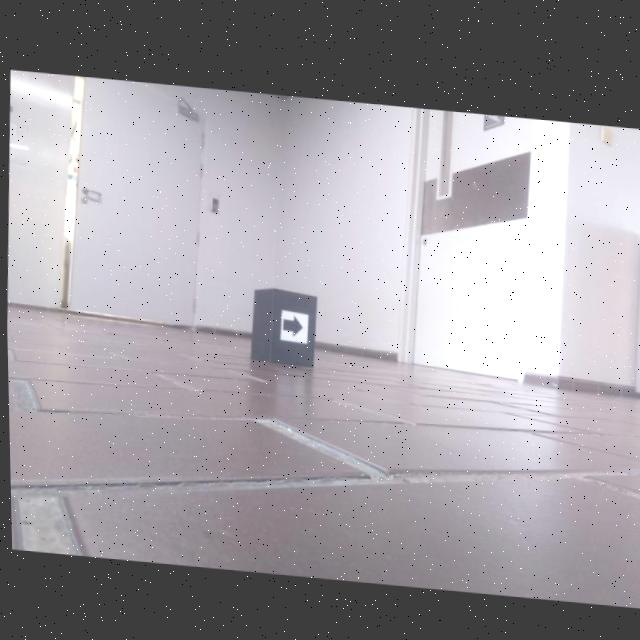RIGHT: (280, 311, 302, 334)
